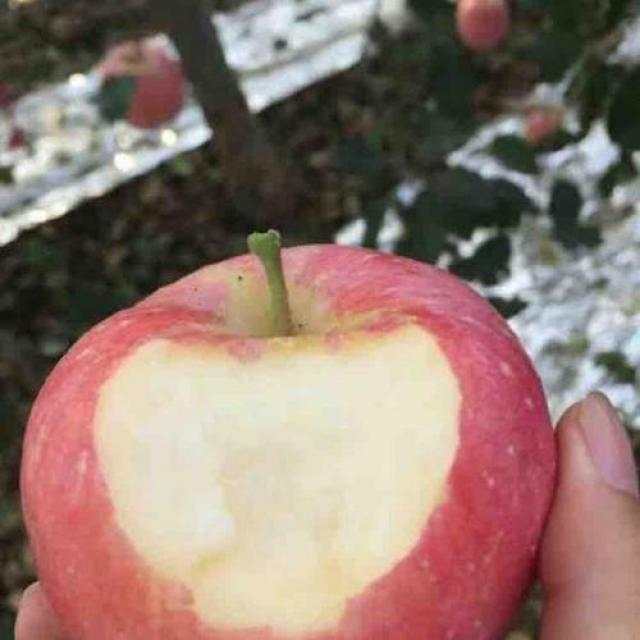Rotten: (31, 248, 548, 640)
